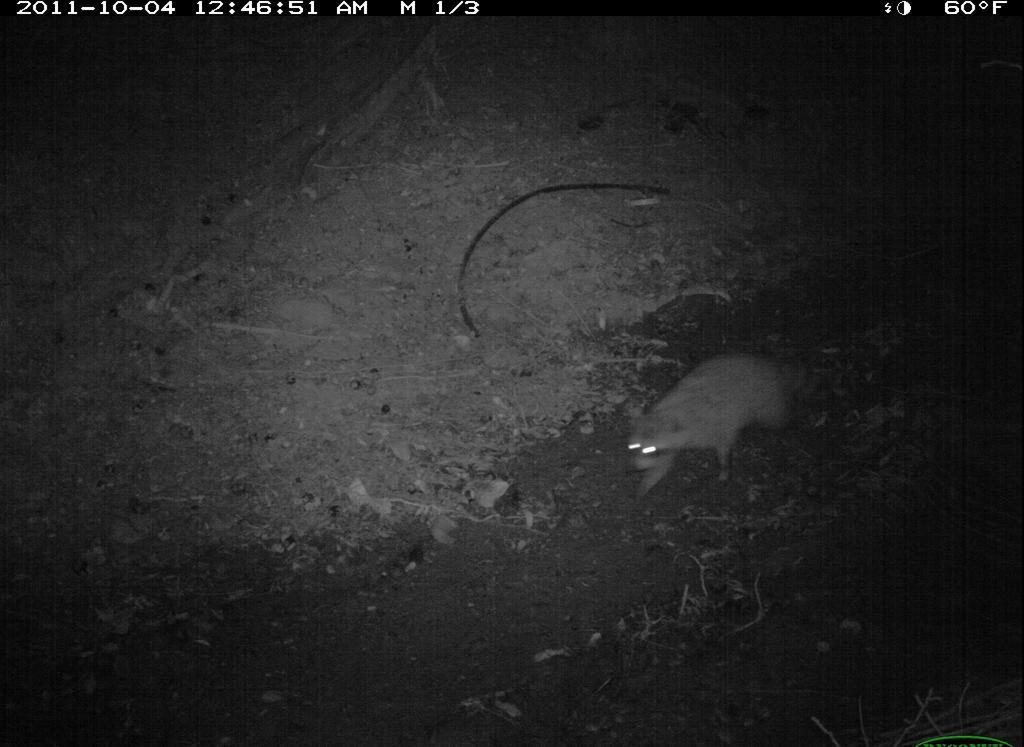raccoon: (610, 349, 813, 504)
